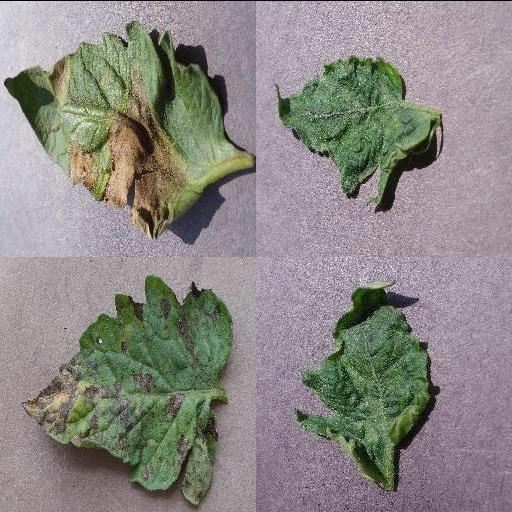Early Blight: (21, 278, 235, 502)
Late Blight: (4, 18, 222, 242)
Mosaic Virus: (295, 280, 431, 484), (272, 53, 433, 205)
